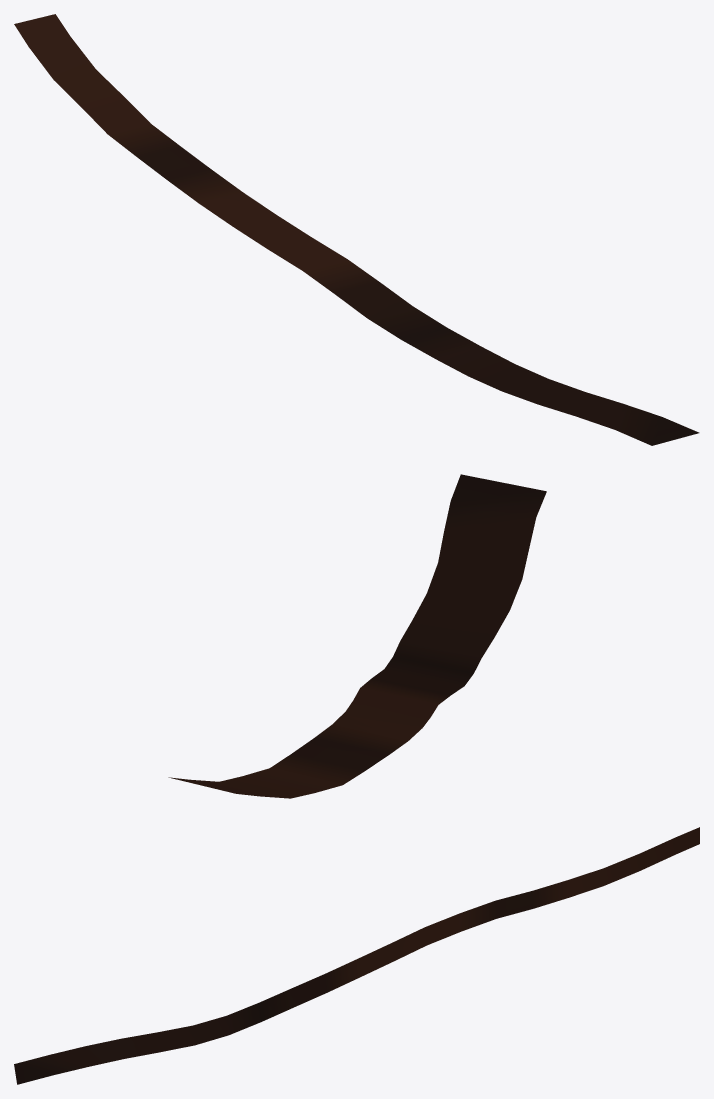
The model's file is field_spring_tree_outside_col.fbx.
3 views of the same model, one above another, from view 1: azimuth 30°, elevation 25°; view 2: azimuth 150°, elevation 25°; view 3: azimuth 270°, elevation 25° (orthographic). The views are drawn at different scales.
Parts seen in each view (by area): view 1: field_spring_tree_outside_col; view 2: field_spring_tree_outside_col; view 3: field_spring_tree_outside_col.
Boxes of the visible parts, <box> form: field_spring_tree_outside_col: <box>14,14,699,445</box>; field_spring_tree_outside_col: <box>168,474,546,798</box>; field_spring_tree_outside_col: <box>14,827,699,1084</box>.
Bounding box in the file's own units: 542 × 330 × 1406.
